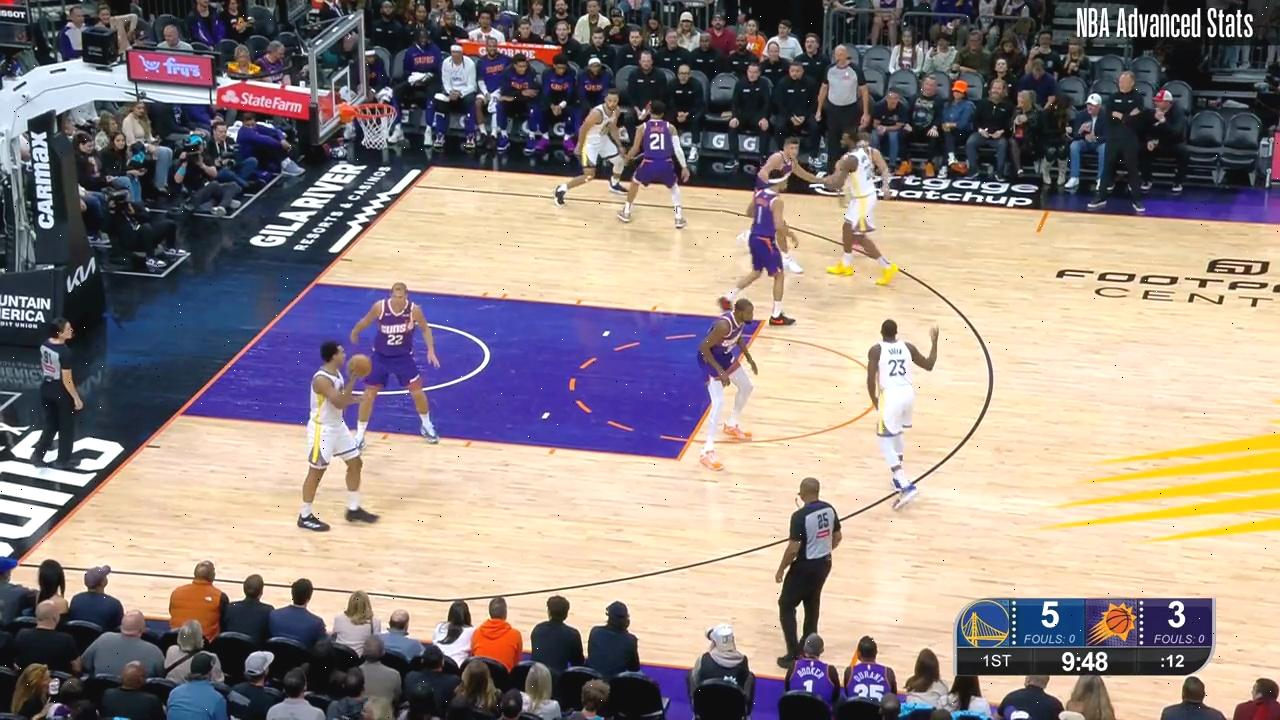basketball: (346, 354, 373, 379)
